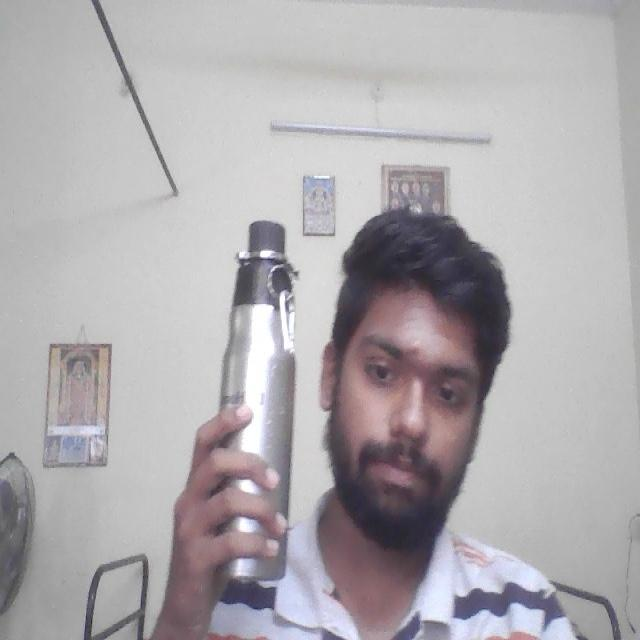Drinking: (217, 213, 306, 586)
